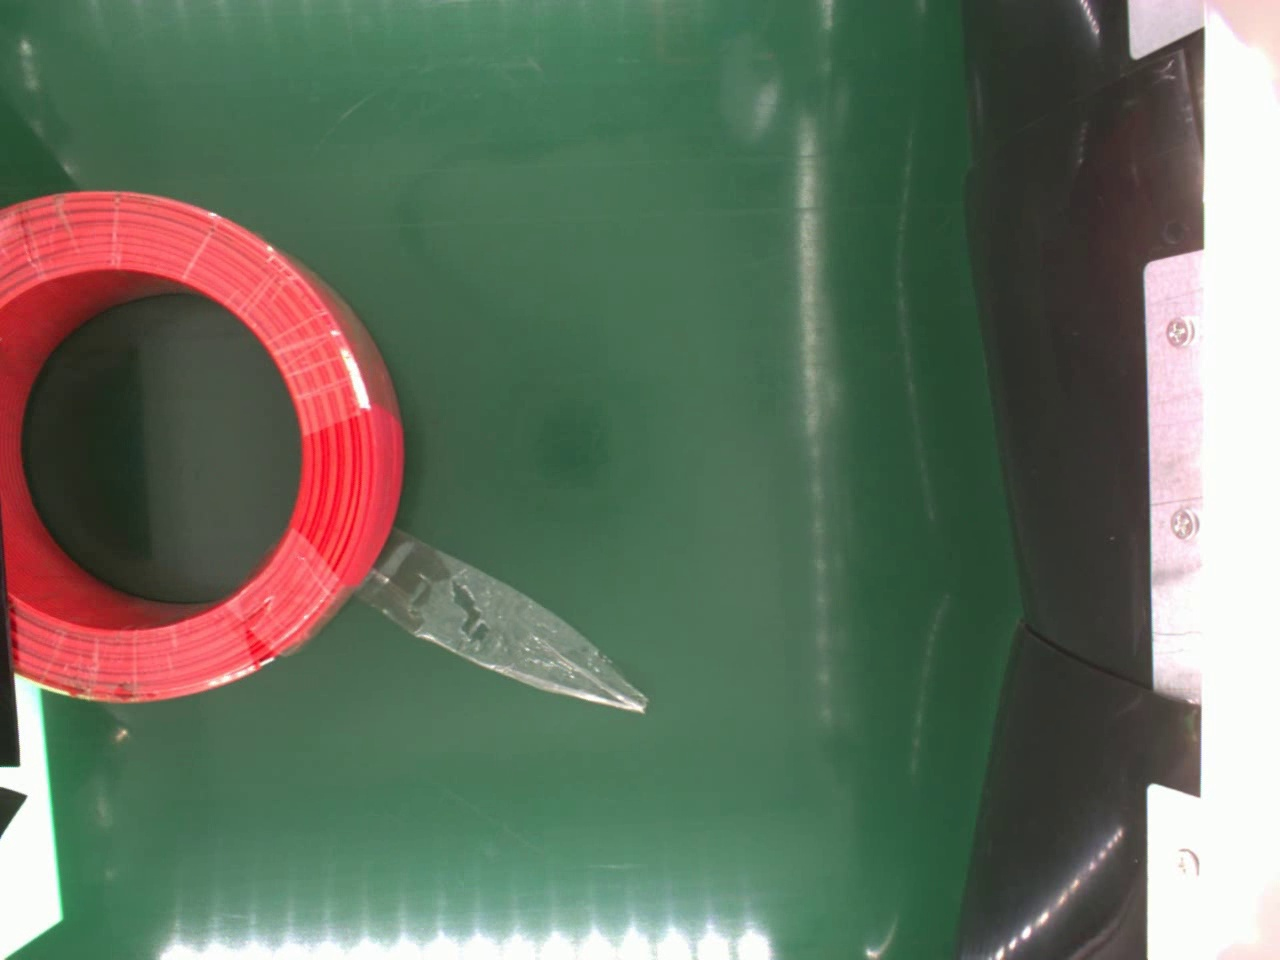red: (0, 186, 406, 707)
